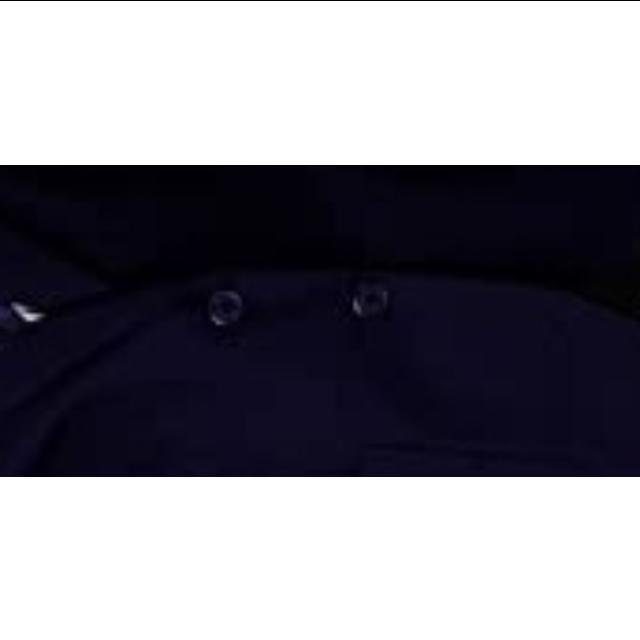polyester: (0, 164, 640, 476)
